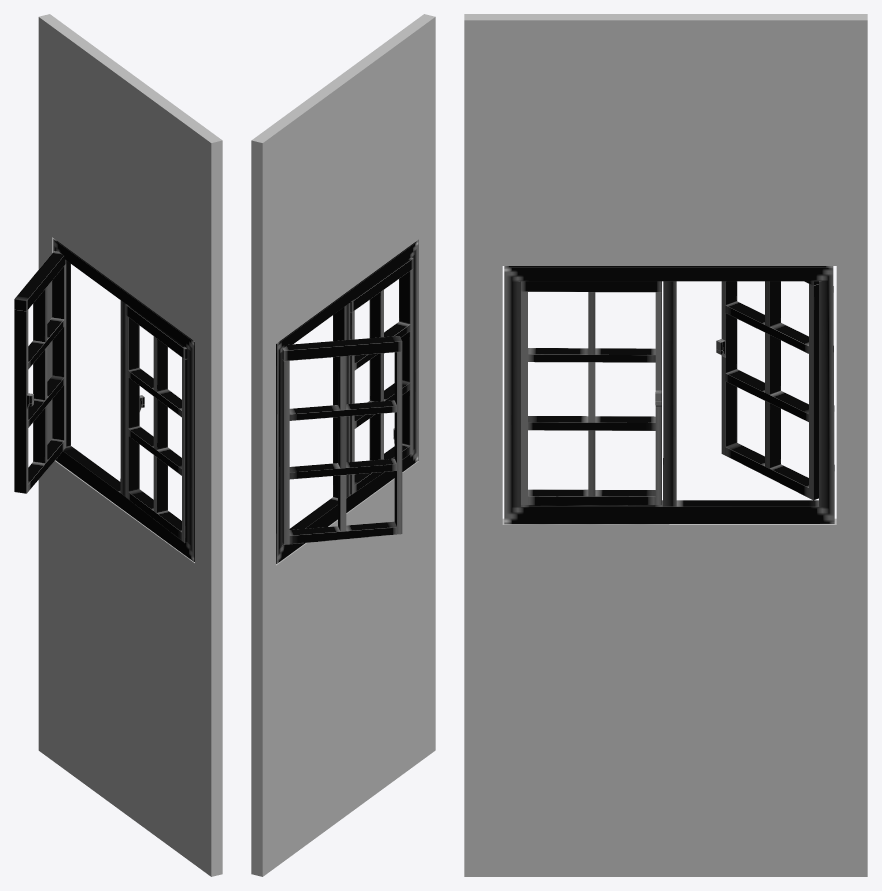
File: Wall_With_Window_Half_Right_Opened.fbx
3 renders of one model, left to right at view 1: azimuth 30°, elevation 25°; view 2: azimuth 150°, elevation 25°; view 3: azimuth 270°, elevation 25°, orthographic. The views are drawn at different scales.
Parts seen in each view (by area): view 1: polySurface7; view 2: polySurface7; view 3: polySurface7.
Boxes of the visible parts, box(x1,y1,x2,y2) form: polySurface7: box(14, 14, 222, 876); polySurface7: box(251, 14, 435, 876); polySurface7: box(464, 14, 867, 876).
Bounding box in the file's own units: 8.56 × 61.74 × 26.35.
